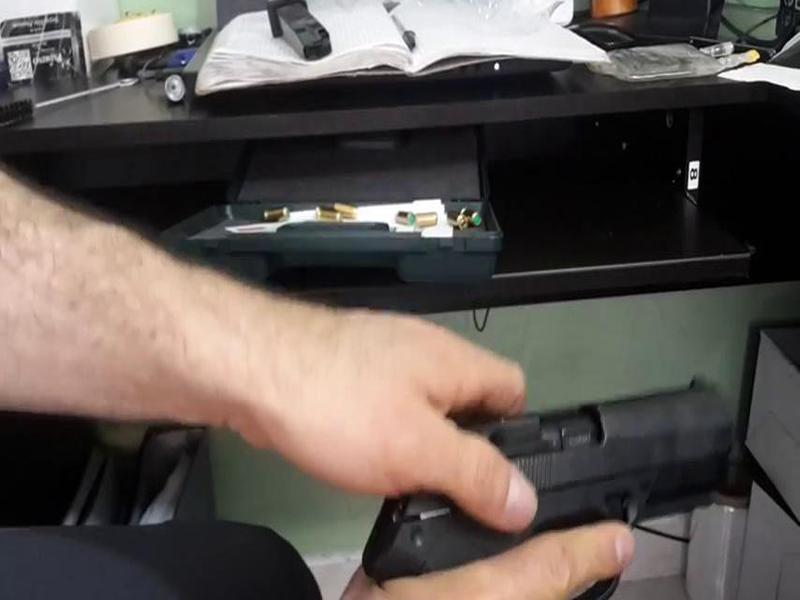Pistola: (317, 366, 781, 578)
